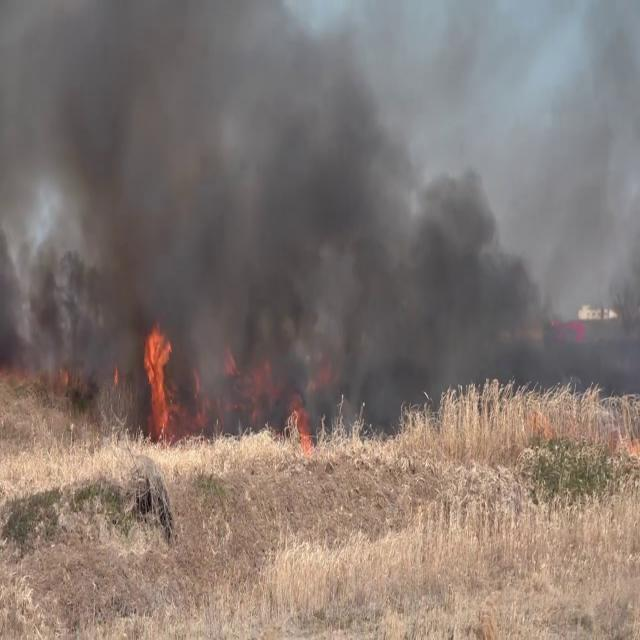Fire: (140, 317, 176, 438)
Smoke: (0, 1, 624, 423)
